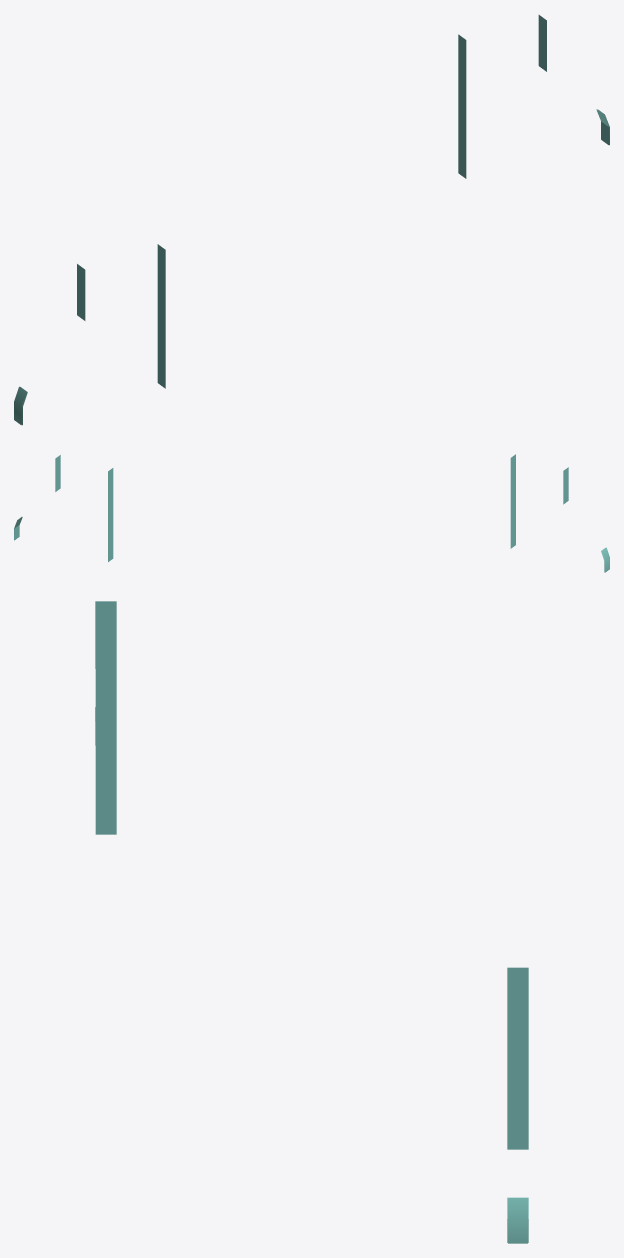
File: cluster8.fbx
3 views of the same model, one above another, from view 1: azimuth 30°, elevation 25°; view 2: azimuth 150°, elevation 25°; view 3: azimuth 270°, elevation 25° (orthographic). The views are drawn at different scales.
Parts seen in each view (by area): view 1: cluster8; view 2: cluster8; view 3: cluster8.
Part boxes in pixels (x1,y1,x2,y2): cluster8: (14, 15, 609, 425); cluster8: (14, 454, 609, 572); cluster8: (95, 601, 528, 1243).
Bounding box in the file's own units: 629391 × 127151 × 241973.
